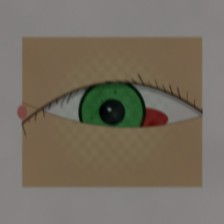hemorrhage_spot: (82, 79, 182, 159)
